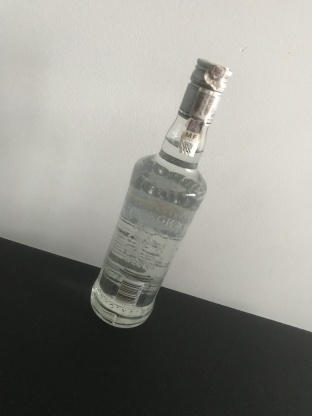nakretka: (176, 55, 233, 128)
